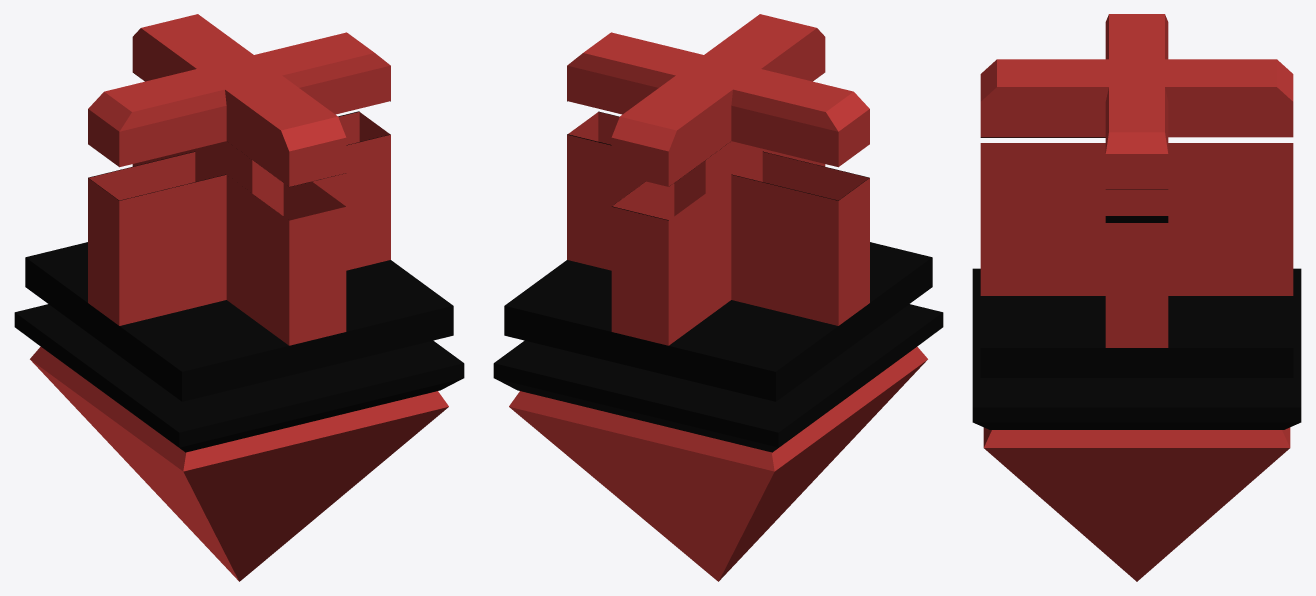
Rendered from wall_tile_cross.fbx.
3 views of the same model, side by side, from view 1: azimuth 30°, elevation 25°; view 2: azimuth 150°, elevation 25°; view 3: azimuth 270°, elevation 25° (orthographic).
Parts seen in each view (by area): view 1: Wall_tile_1; view 2: Wall_tile_1; view 3: Wall_tile_1.
Part boxes in pixels (<box>): Wall_tile_1: <box>14,14,464,581</box>; Wall_tile_1: <box>493,14,943,581</box>; Wall_tile_1: <box>972,14,1301,581</box>.
Bounding box in the file's own units: 100 × 171 × 100.
